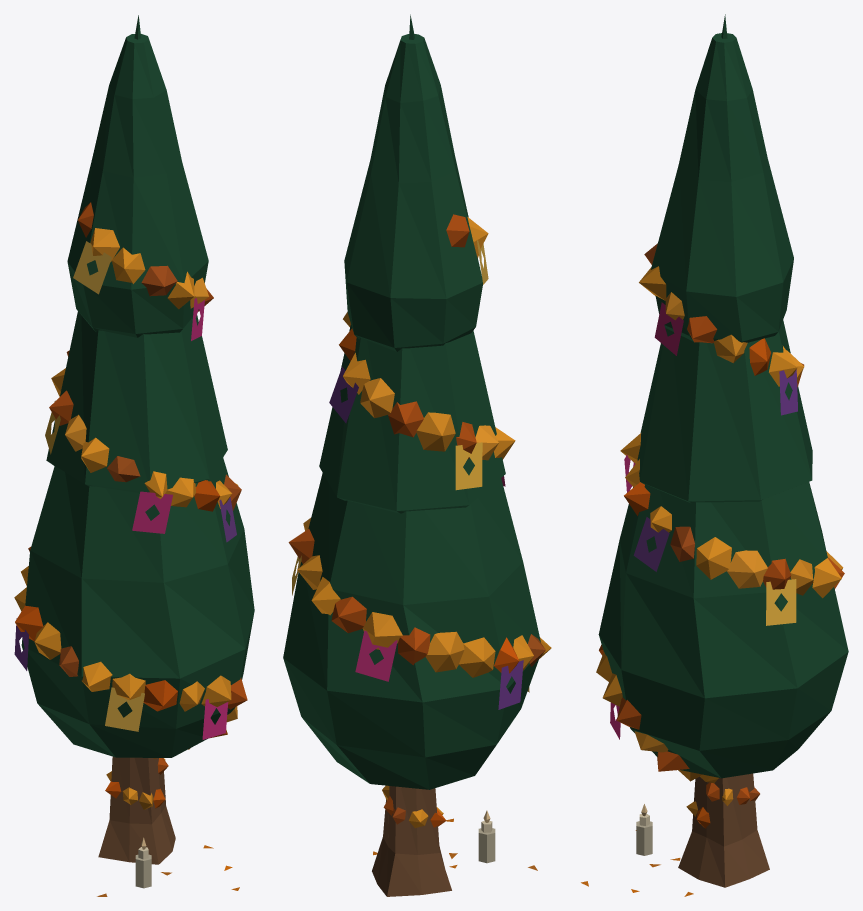
The model's file is pante-n-cypress-a667ad.glb.
3 renders of one model, left to right at view 1: azimuth 30°, elevation 25°; view 2: azimuth 150°, elevation 25°; view 3: azimuth 270°, elevation 25°, orthographic. The views are drawn at different scales.
Visible parts, largest first — view 1: pante-n-cypress-a667ad; view 2: pante-n-cypress-a667ad; view 3: pante-n-cypress-a667ad.
Part boxes in pixels (<box>): pante-n-cypress-a667ad: <box>14,15,254,896</box>; pante-n-cypress-a667ad: <box>283,14,551,896</box>; pante-n-cypress-a667ad: <box>581,14,848,896</box>.
Size of the model in its own units: 1.94 by 7 by 1.99.
